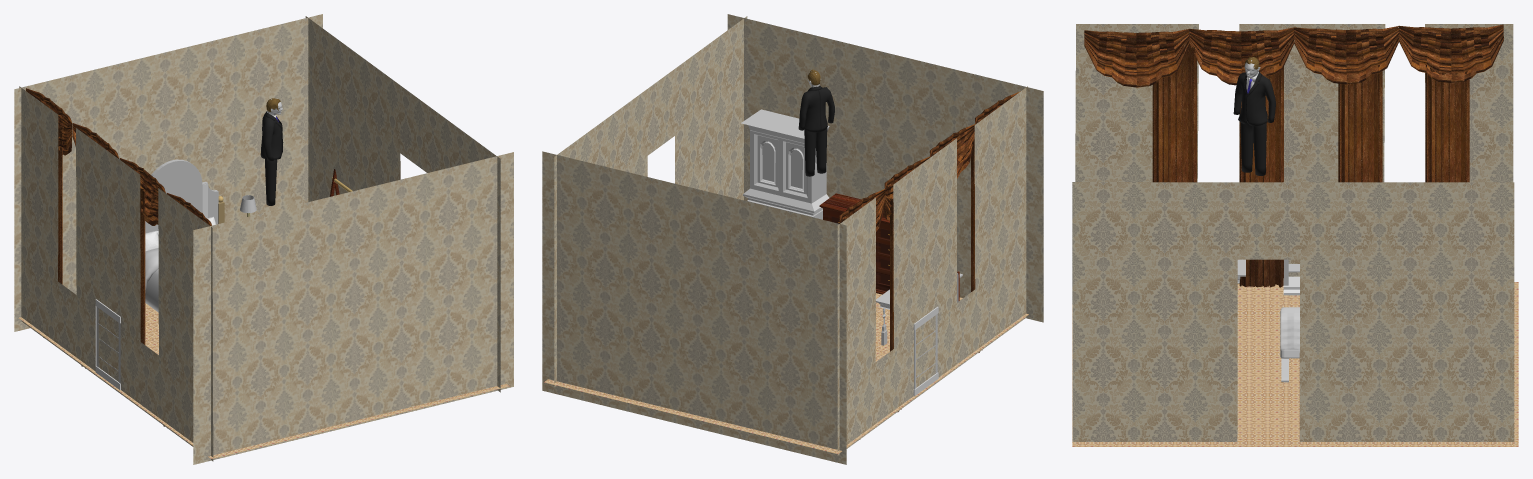
File: detective_room.fbx
The picture shows the model from 3 angles, left to right: view 1: azimuth 30°, elevation 25°; view 2: azimuth 150°, elevation 25°; view 3: azimuth 270°, elevation 25°; orthographic projection. The views are drawn at different scales.
Visible parts, largest first — view 1: Cube.004, Cube.006, Cube.007, Plane.002, Plane.001, Circle.001, suitdone.001, Plane.005, Plane.000, Cube.932; view 2: Cube.004, Cube.006, Cube.007, wardrobe.001, Plane.001, suitdone.001, Plane.002, Cube.022, Plane.005; view 3: Cube.007, Cube.006, Plane.002, Plane.005, Plane.001, suitdone.001, Cube.020.
Part boxes in pixels (x1=…): Cube.004: x1=14, y1=14, x2=513, y2=464; Cube.006: x1=19, y1=86, x2=213, y2=461; Cube.007: x1=305, y1=16, x2=500, y2=392; Plane.002: x1=26, y1=88, x2=211, y2=225; Plane.001: x1=19, y1=303, x2=509, y2=458; Circle.001: x1=145, y1=159, x2=218, y2=232; suitdone.001: x1=260, y1=98, x2=283, y2=205; Plane.005: x1=43, y1=128, x2=164, y2=426; Plane.000: x1=145, y1=248, x2=158, y2=312; Cube.932: x1=95, y1=306, x2=120, y2=383; Cube.004: x1=542, y1=14, x2=1043, y2=464; Cube.006: x1=837, y1=86, x2=1027, y2=455; Cube.007: x1=554, y1=16, x2=747, y2=386; wardrobe.001: x1=741, y1=109, x2=829, y2=219; Plane.001: x1=544, y1=293, x2=1028, y2=453; suitdone.001: x1=798, y1=69, x2=834, y2=176; Plane.002: x1=839, y1=91, x2=1020, y2=231; Cube.022: x1=819, y1=193, x2=889, y2=294; Plane.005: x1=860, y1=140, x2=982, y2=439; Cube.007: x1=1072, y1=182, x2=1514, y2=441; Cube.006: x1=1075, y1=24, x2=1513, y2=283; Plane.002: x1=1084, y1=24, x2=1503, y2=87; Plane.005: x1=1152, y1=45, x2=1469, y2=287; Plane.001: x1=1072, y1=282, x2=1518, y2=446; suitdone.001: x1=1233, y1=57, x2=1275, y2=175; Cube.020: x1=1280, y1=307, x2=1299, y2=358.
Bounding box in the file's own units: 402 × 336 × 428.
